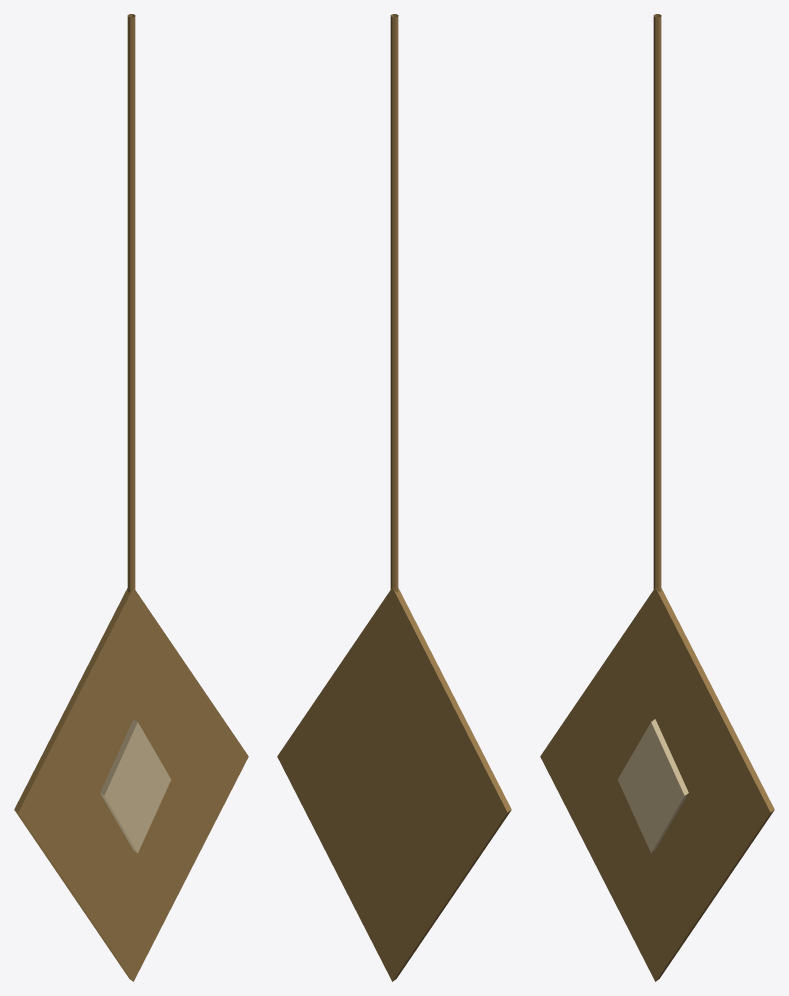
File: star_pendant.glb
The picture shows the model from 3 angles, left to right: view 1: azimuth 30°, elevation 25°; view 2: azimuth 150°, elevation 25°; view 3: azimuth 330°, elevation 25°; orthographic projection.
Visible parts, largest first — view 1: Four point star, Pendant cord, Star inner; view 2: Four point star, Pendant cord; view 3: Four point star, Pendant cord, Star inner.
Boxes of the visible parts, x1,y1,x2,y2 form: Four point star: (14, 587, 248, 981); Pendant cord: (127, 14, 135, 592); Star inner: (100, 719, 171, 853); Four point star: (277, 587, 511, 981); Pendant cord: (390, 14, 398, 592); Four point star: (540, 587, 774, 981); Pendant cord: (653, 14, 661, 592); Star inner: (617, 719, 688, 853).
Size of the model in its own units: 1.1 by 4.4 by 0.07.
